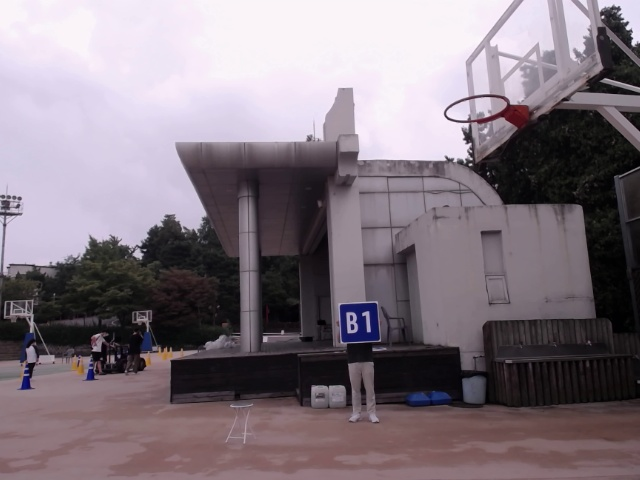delivery_b1: (339, 301, 381, 343)
